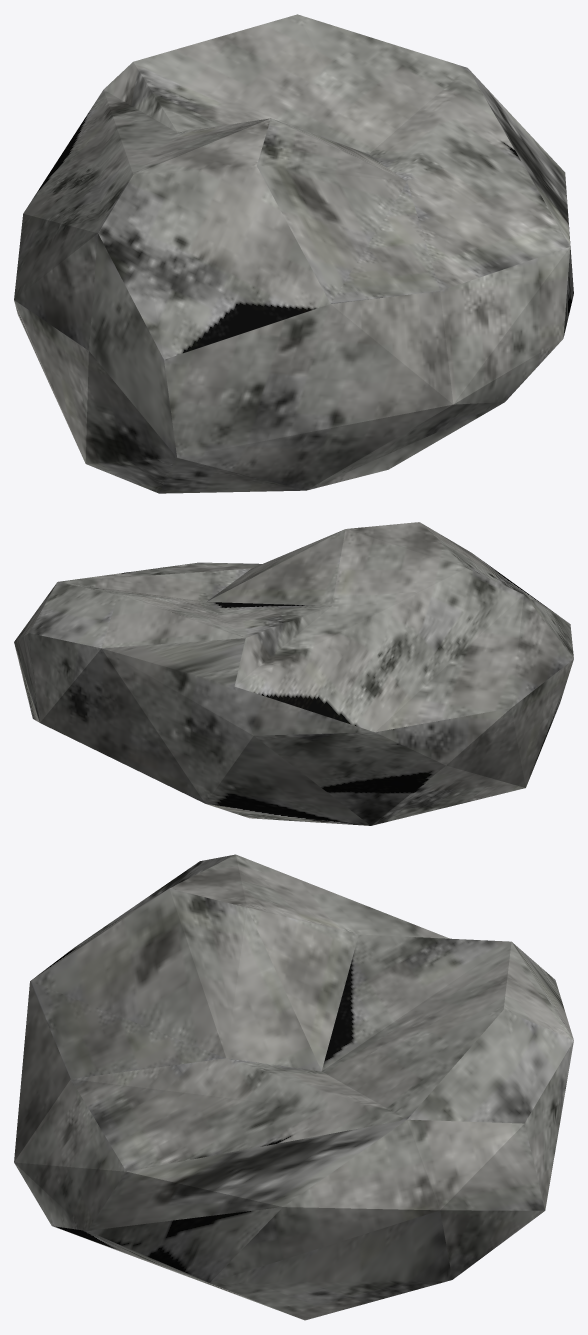
Rendered from Marble1_LOD1.FBX.
3 renders of one model, top to bottom at view 1: azimuth 30°, elevation 25°; view 2: azimuth 150°, elevation 25°; view 3: azimuth 270°, elevation 25°, orthographic. The views are drawn at different scales.
Visible parts, largest first — view 1: Marble2; view 2: Marble2; view 3: Marble2.
Part boxes in pixels (x1,y1,x2,y2): Marble2: (14,14,573,493); Marble2: (14,522,573,825); Marble2: (14,854,573,1320).
Bounding box in the file's own units: 27.87 × 16.46 × 24.48.
1 material, 1 textured.
